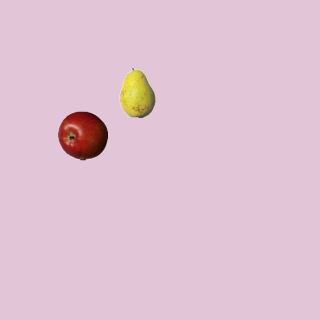Apple Braeburn: (57, 110, 107, 160)
Pear Monster: (112, 67, 162, 117)
